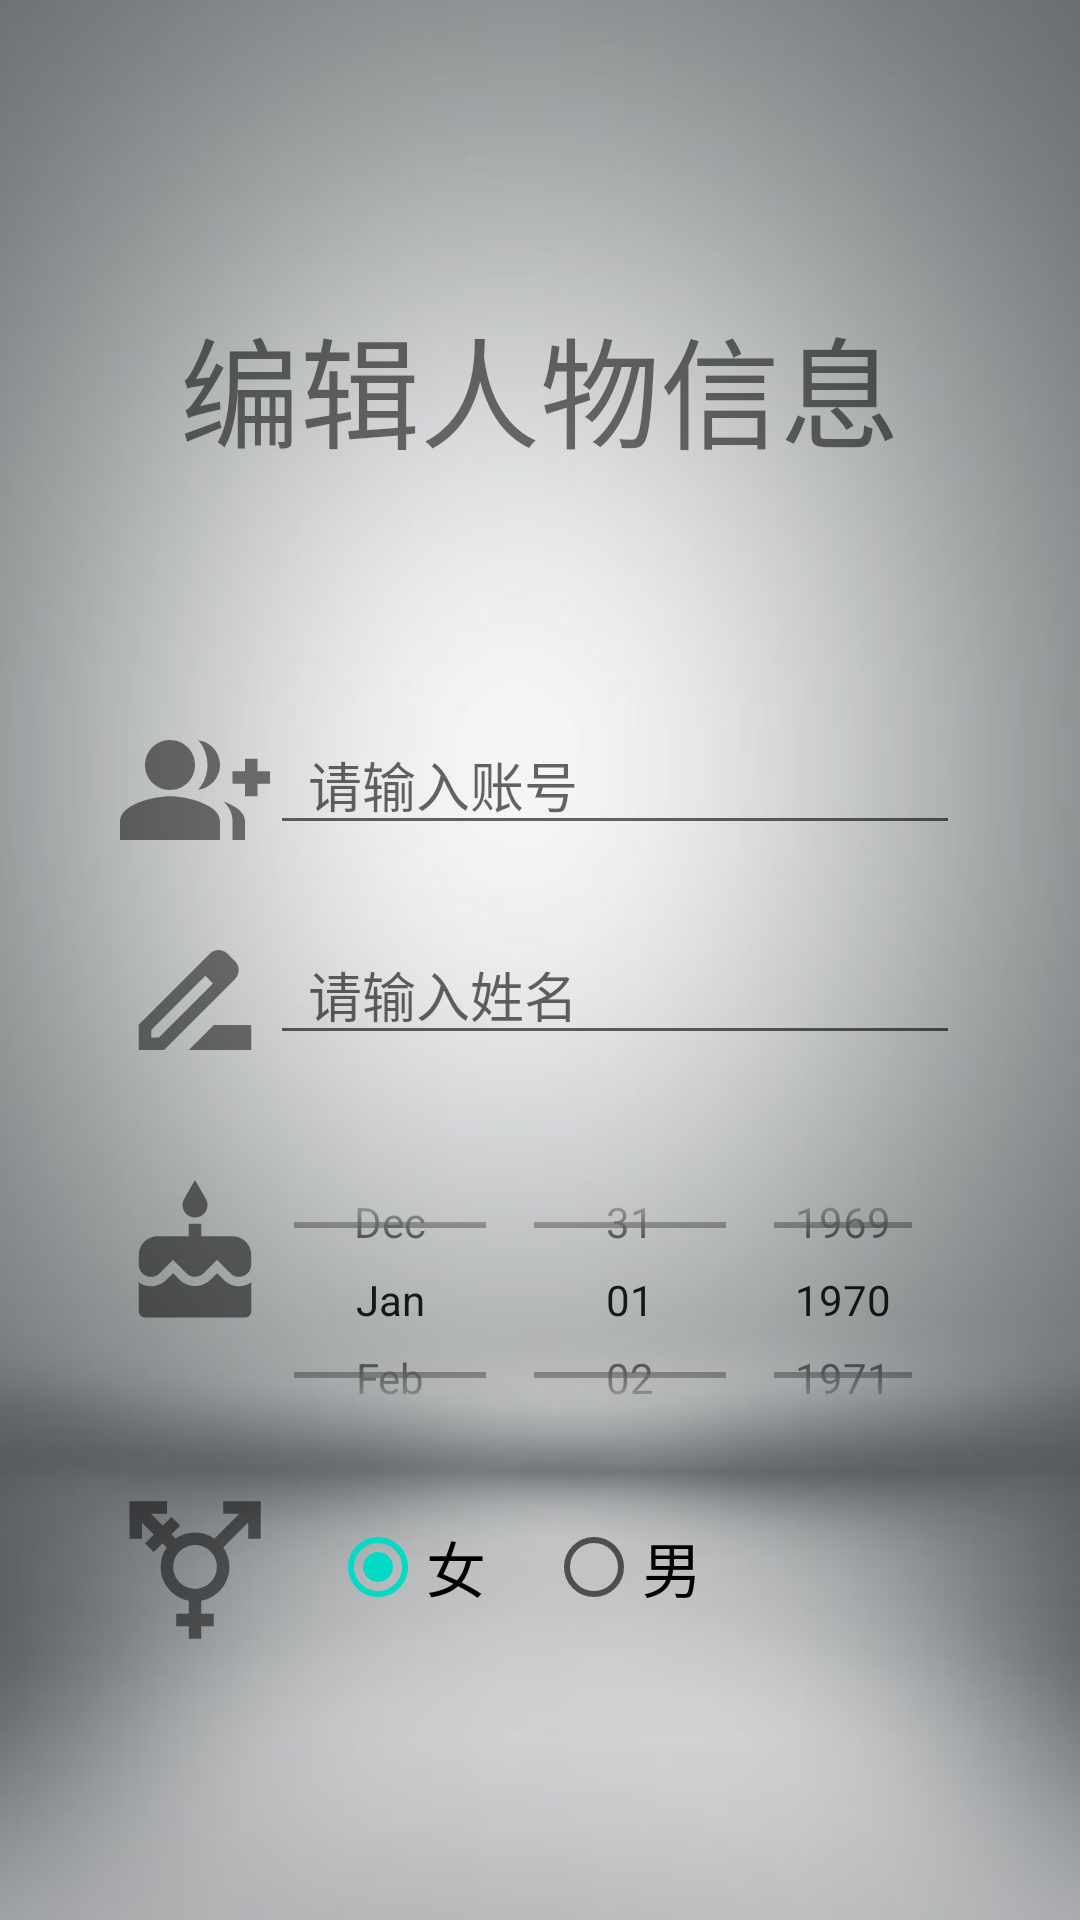

Point at icon controls on the screen. Image size 1080 x 1920, points as (x=x, y=y).
birthdate: (x=185, y=1271)
sex: (x=195, y=1570)
username: (x=195, y=790)
